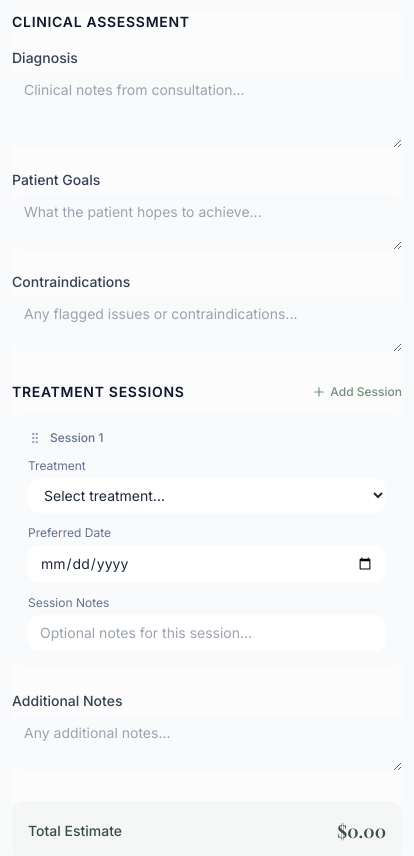
Test: TreatmentPlanBuilder › calculates total estimate based on selected services
Select "Botox — $350" in the dropdown at point(207, 496), box [28,478,386,513]
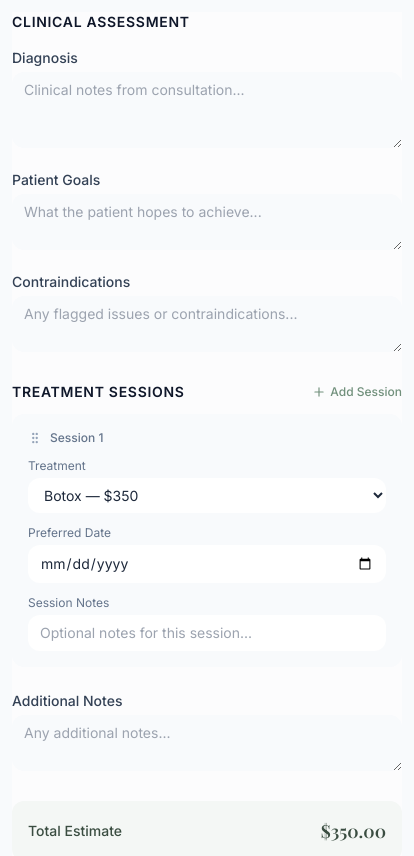
Expected: the text "$350.00" is shown, [321,817,386,845]
